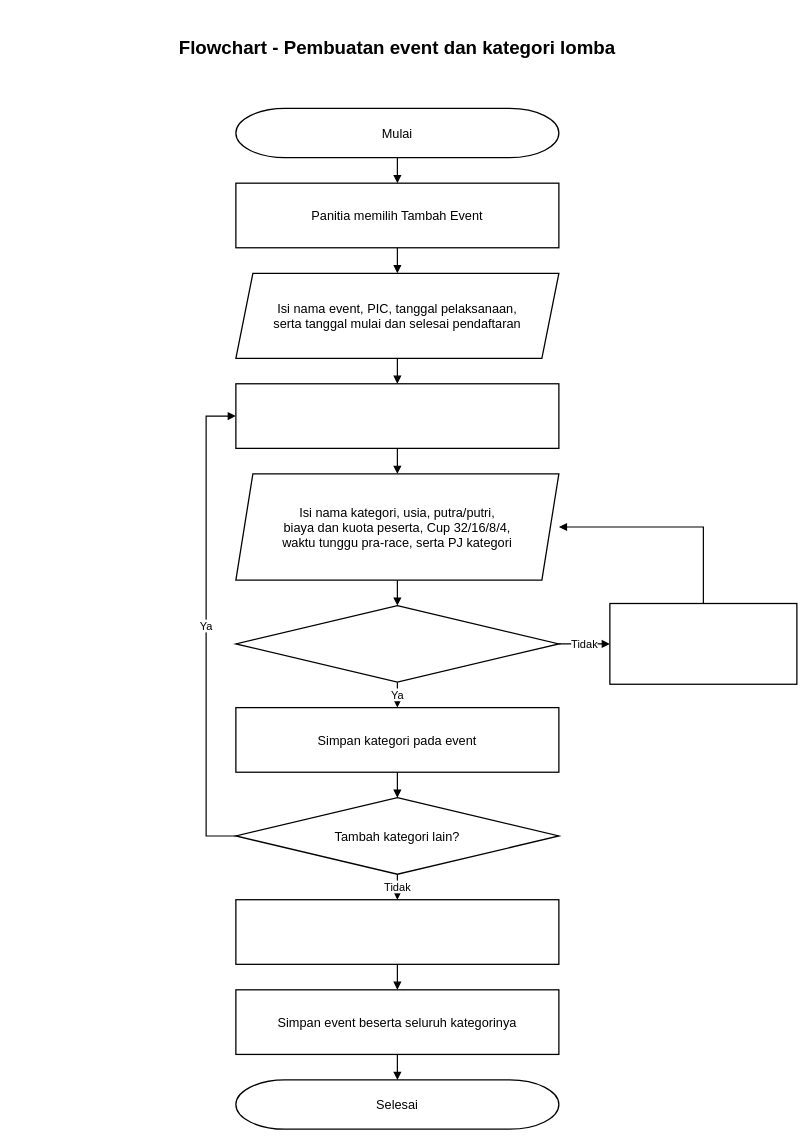
The diagram is 812 pixels wide and 1144 high, and some of its shapes have lost their labels. Here are the shapes that lost their labels. From the top down, the centre of each, then its label:
At pixel 397 416: "Tambahkan kategori lomba".
At pixel 397 643: "Data kategori lengkap dan valid?".
At pixel 703 643: "Tampilkan kesalahan; perbaiki data kategori".
At pixel 397 932: "Periksa kelengkapan data event dan seluruh kategori lomba".
